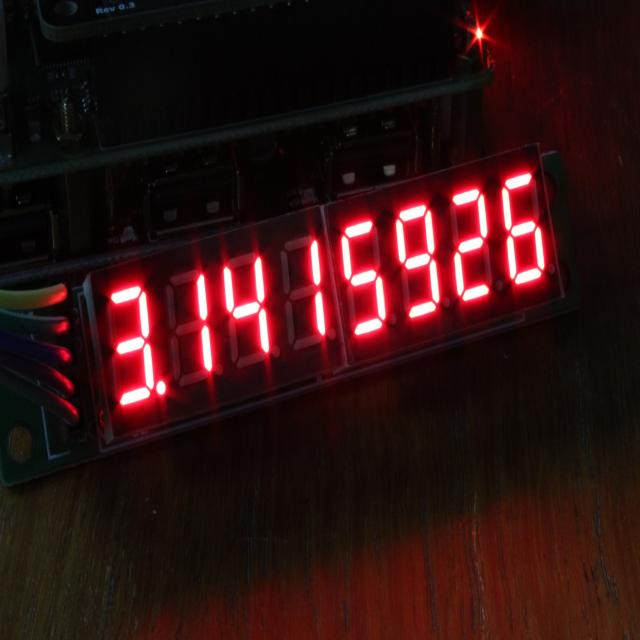.: (154, 376, 169, 399)
1: (190, 266, 216, 378), (304, 236, 328, 346)
2: (449, 184, 495, 304)
3: (108, 280, 158, 408)
4: (221, 254, 276, 361)
5: (338, 215, 391, 342)
6: (499, 164, 548, 289)
9: (392, 203, 443, 320)
